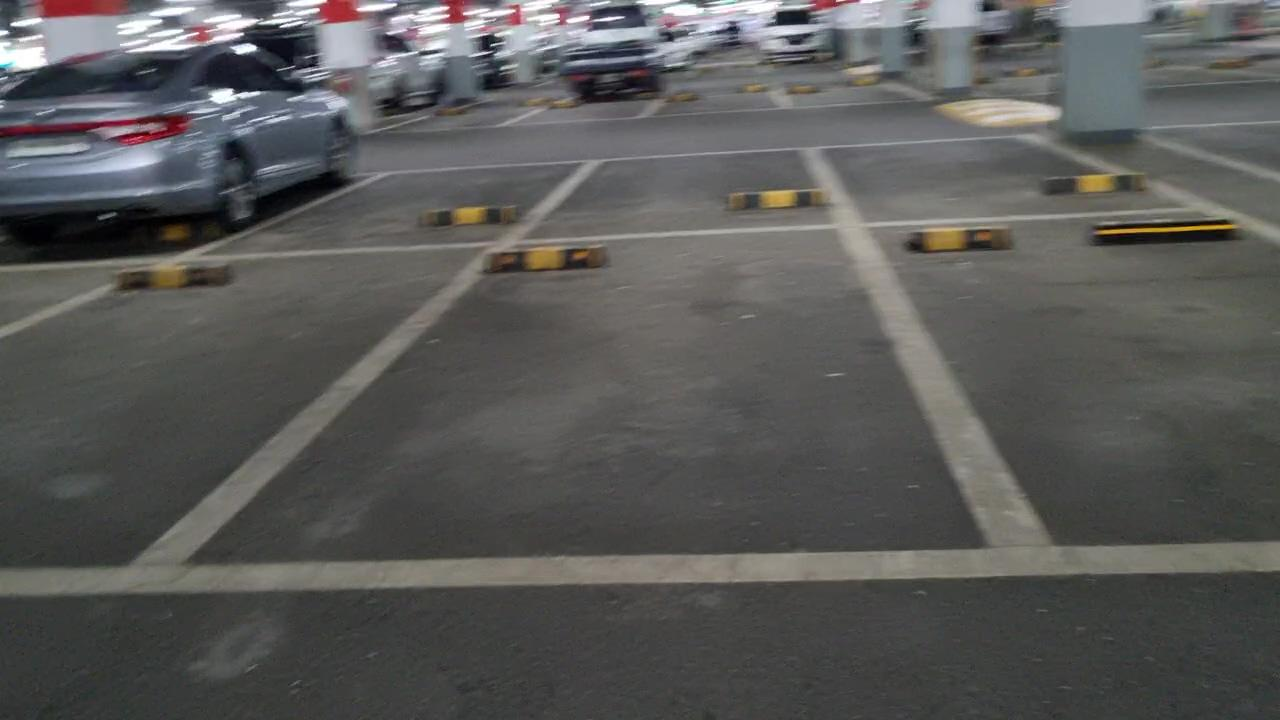empty: (126, 223, 1021, 617)
